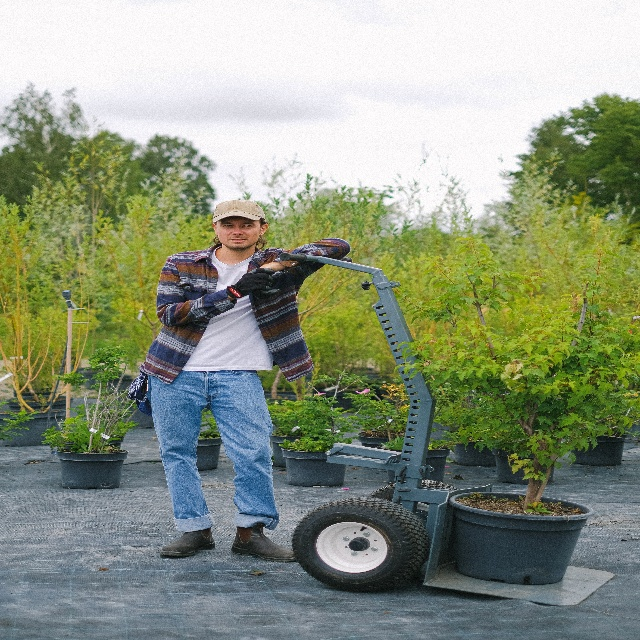Guantes: (225, 267, 275, 300)
